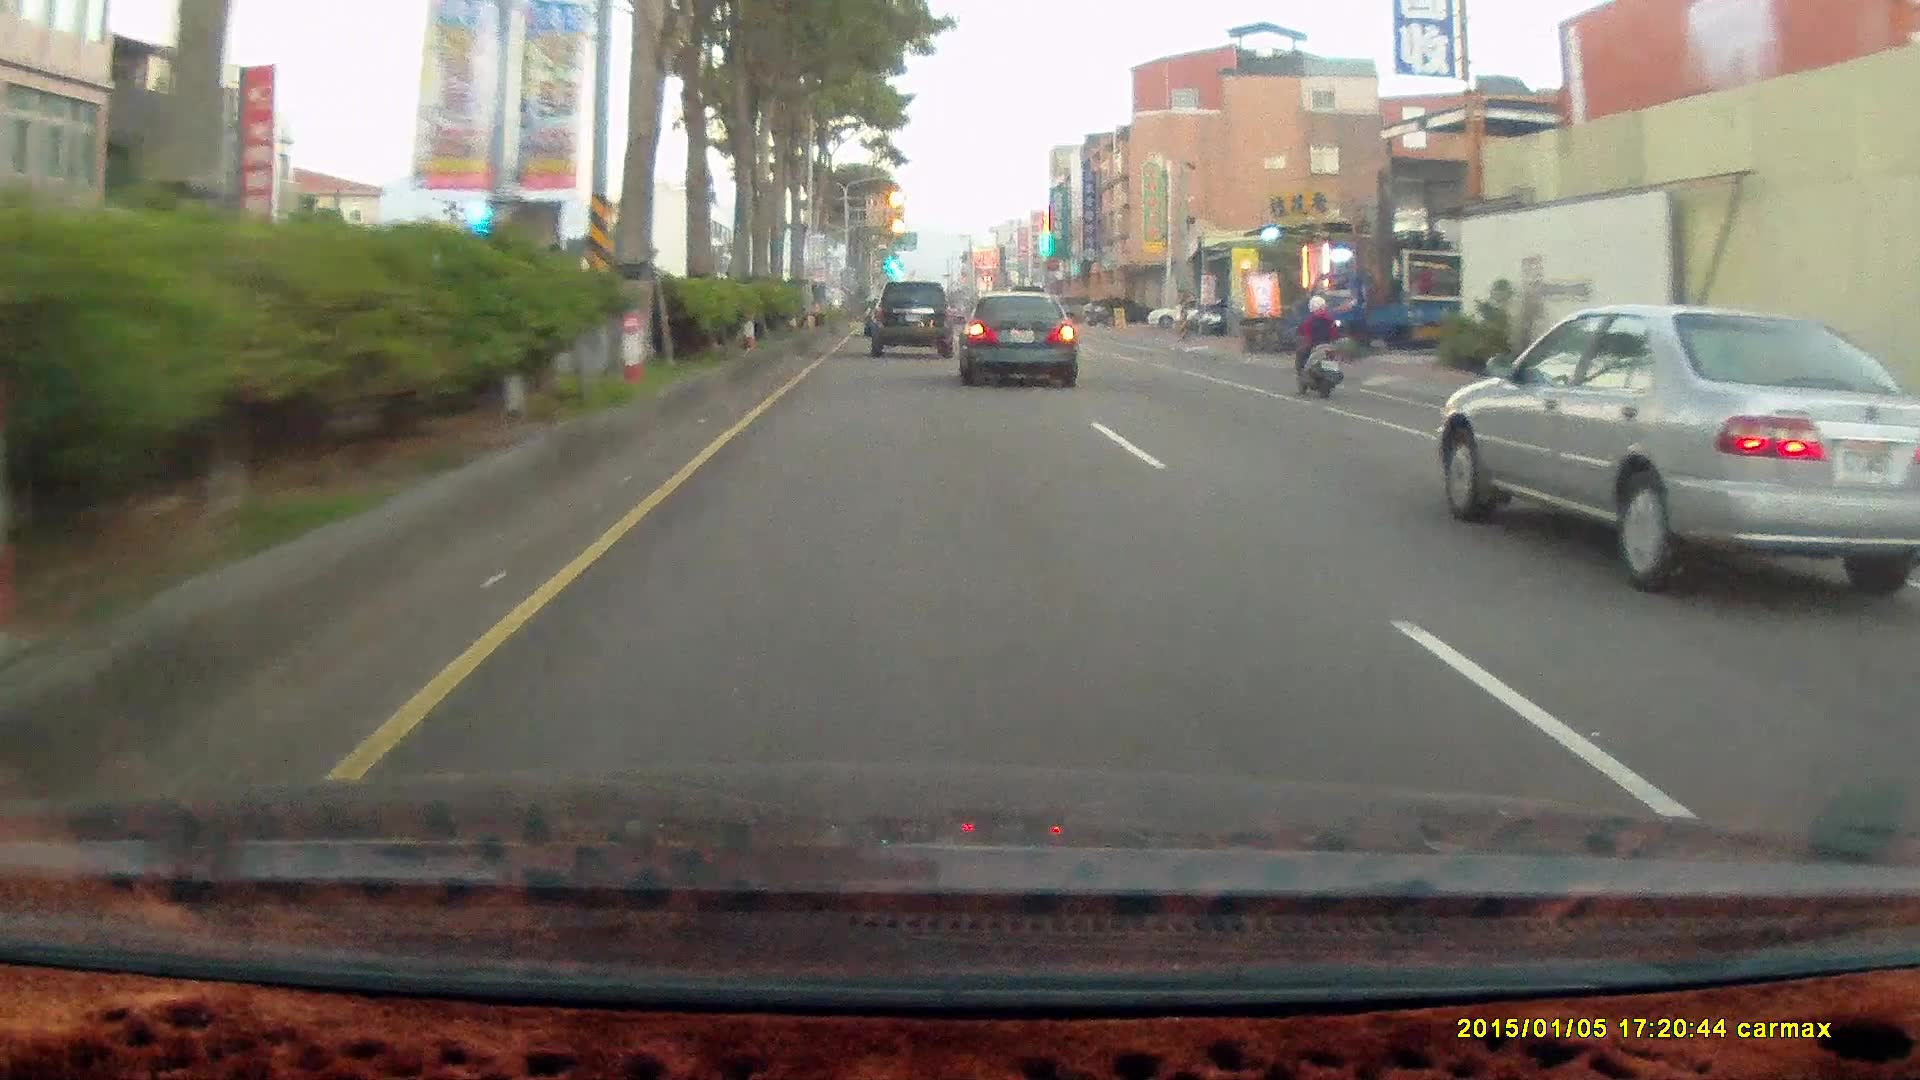rider: (1283, 287, 1354, 408), (1288, 288, 1345, 396)
vehicle: (1439, 304, 1920, 600), (1440, 305, 1920, 586), (1298, 268, 1517, 360), (1302, 270, 1466, 352), (951, 286, 1078, 384), (965, 295, 1088, 388), (872, 282, 958, 355), (869, 282, 955, 355), (1145, 296, 1213, 327), (1089, 296, 1154, 323)
